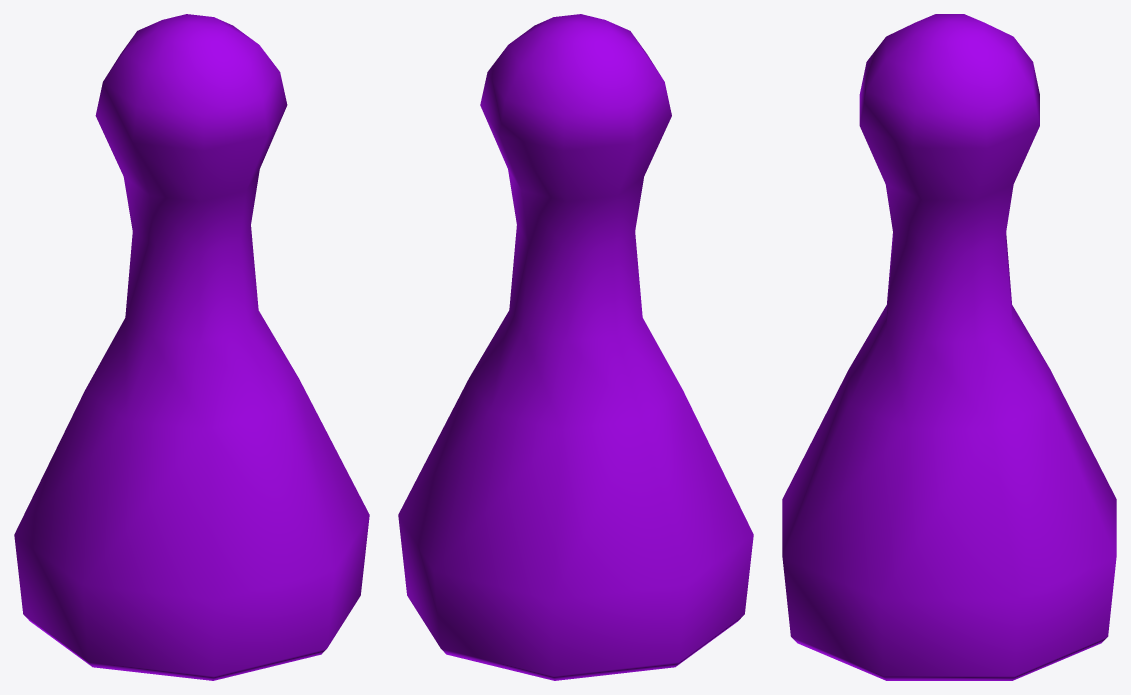
File: Pawn_01.fbx
The picture shows the model from 3 angles, left to right: view 1: azimuth 30°, elevation 25°; view 2: azimuth 150°, elevation 25°; view 3: azimuth 270°, elevation 25°; orthographic projection.
Parts seen in each view (by area): view 1: Pawn_01; view 2: Pawn_01; view 3: Pawn_01.
Part boxes in pixels (<box>): Pawn_01: <box>14,14,369,680</box>; Pawn_01: <box>398,14,753,680</box>; Pawn_01: <box>782,14,1116,680</box>.
Size of the model in its own units: 4.92 by 9.66 by 4.92.
